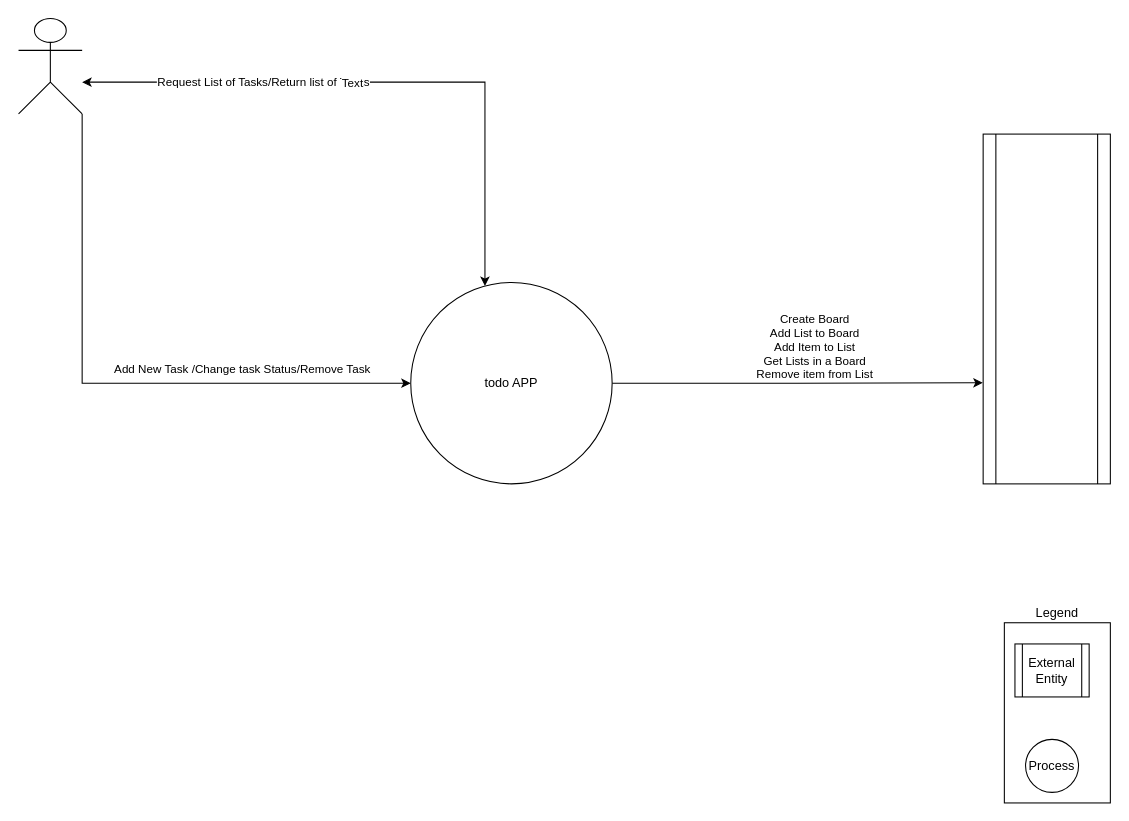
Image size: 1129x821. Some labels were removed from this diagram. Each missing label, with the centre of its shape:
TRELLO API: the point at 1046,308
User: the point at 49,65
